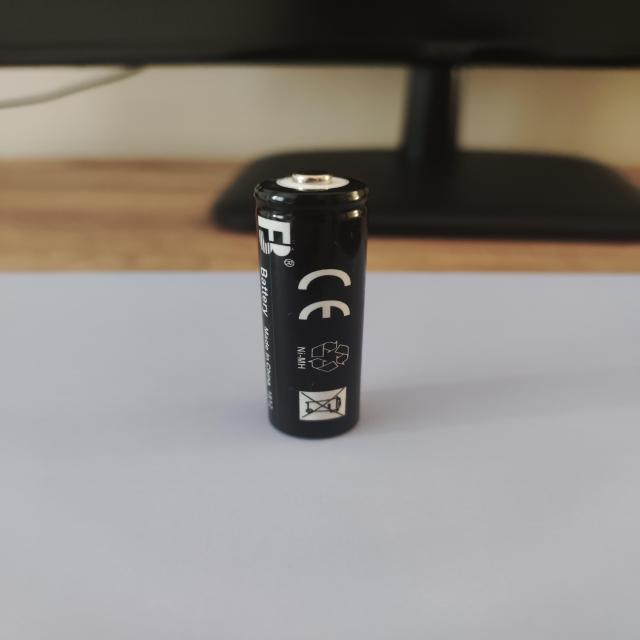AA: (252, 170, 370, 439)
